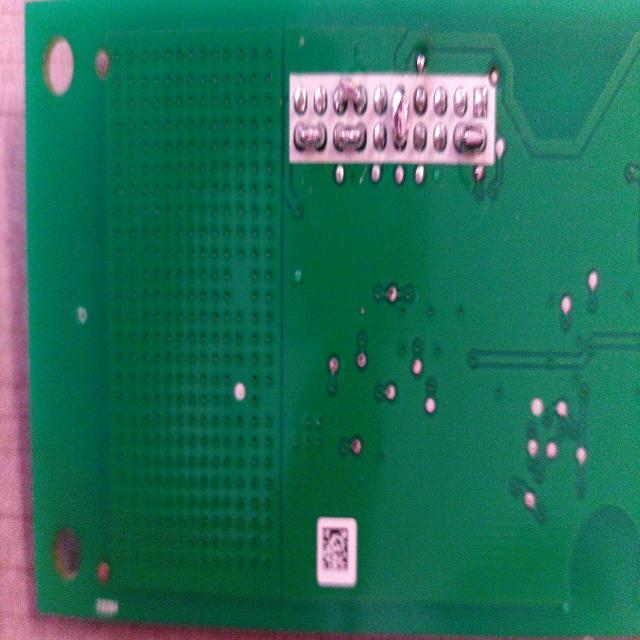Soldering shorted: (332, 73, 368, 119), (330, 118, 370, 158), (453, 120, 488, 158), (292, 120, 328, 154), (392, 81, 408, 152)
